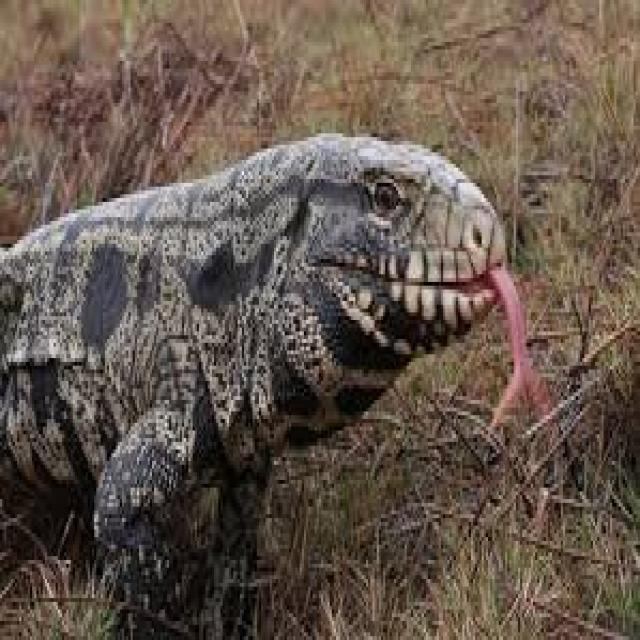Lizard: (0, 136, 539, 568)
